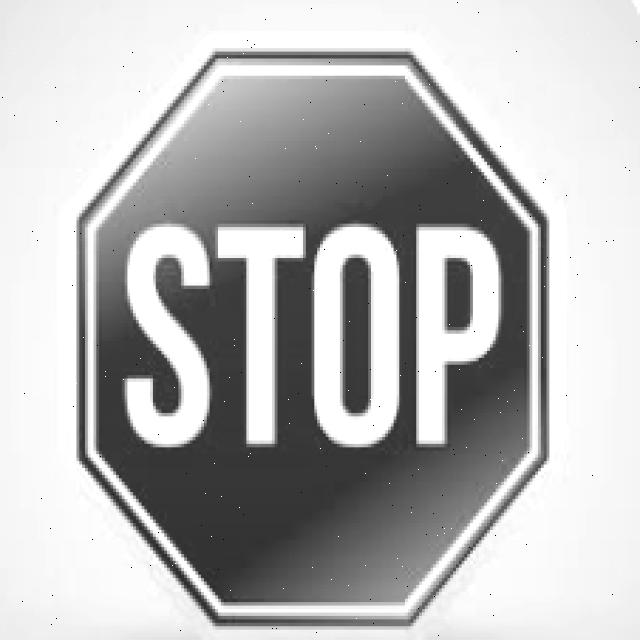Stop-signs: (75, 48, 551, 632)
